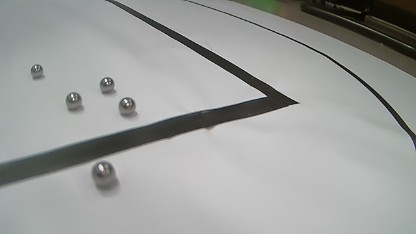ironball: (91, 161, 116, 188), (118, 97, 135, 115), (65, 92, 82, 109), (99, 77, 115, 92), (30, 64, 43, 78)
